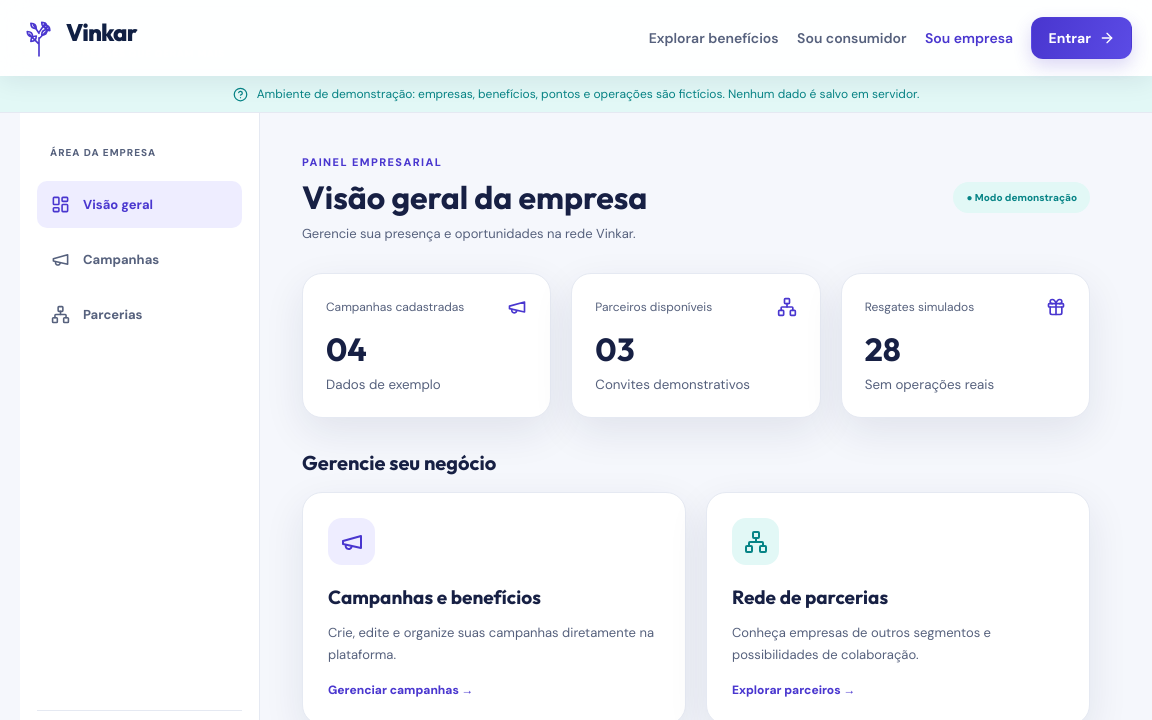
Test: isolamento e navegação da demonstração › leva o logo da demonstração de volta ao início da landing
Click the link with aria-label "Vinkar — voltar ao início da Vinkar". click: click(123, 38)
box: [20, 16, 225, 60]
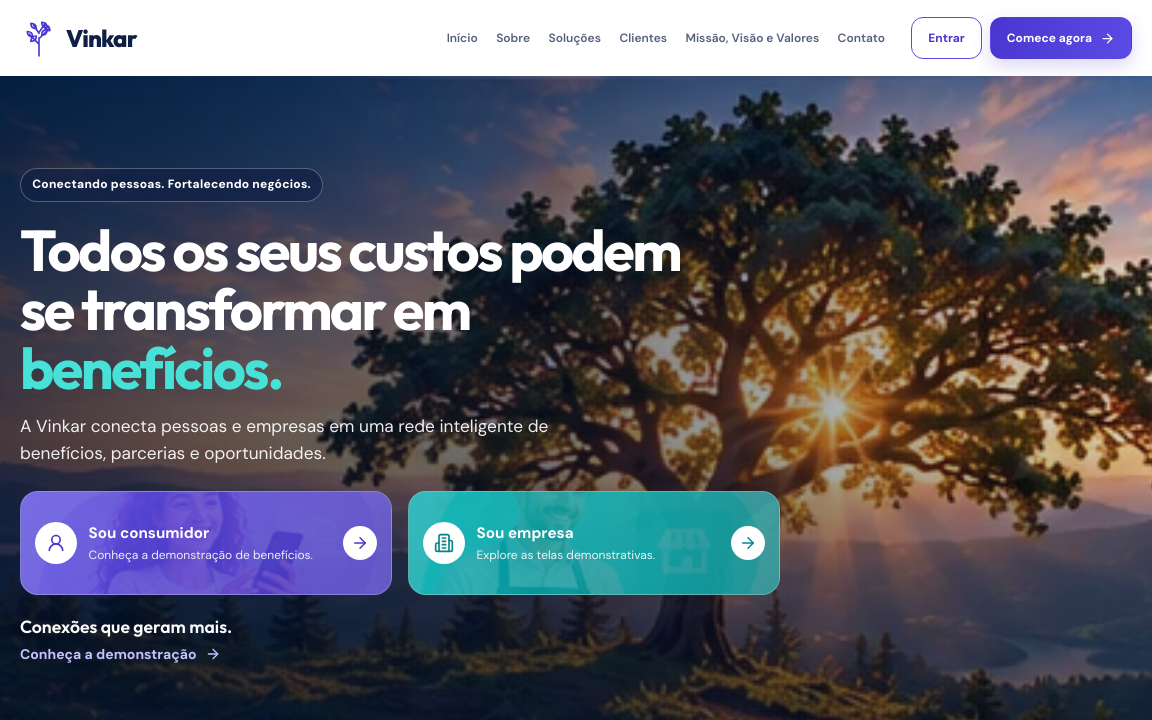
Result: the heading "Todos os seus custos podem se transformar em benefícios." is shown at [20, 221, 710, 397]
